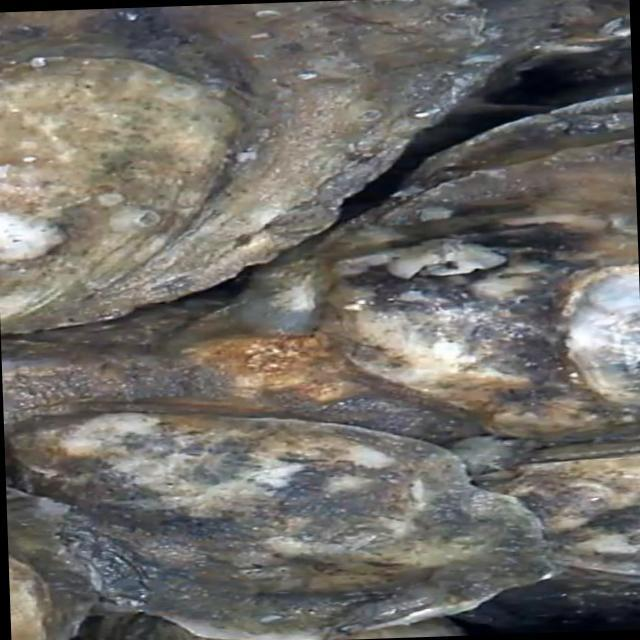Oyster- Indeterminate: (0, 0, 583, 334), (4, 410, 555, 640), (1, 200, 491, 447), (308, 89, 640, 438), (479, 436, 640, 580), (5, 477, 98, 640), (455, 572, 640, 632), (83, 609, 274, 640), (305, 616, 467, 640)
